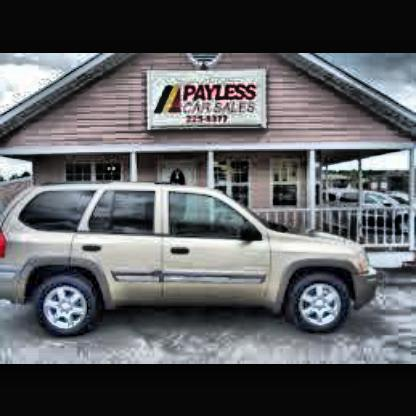Isuzu Ascender SUV 2008: (6, 180, 385, 340)
